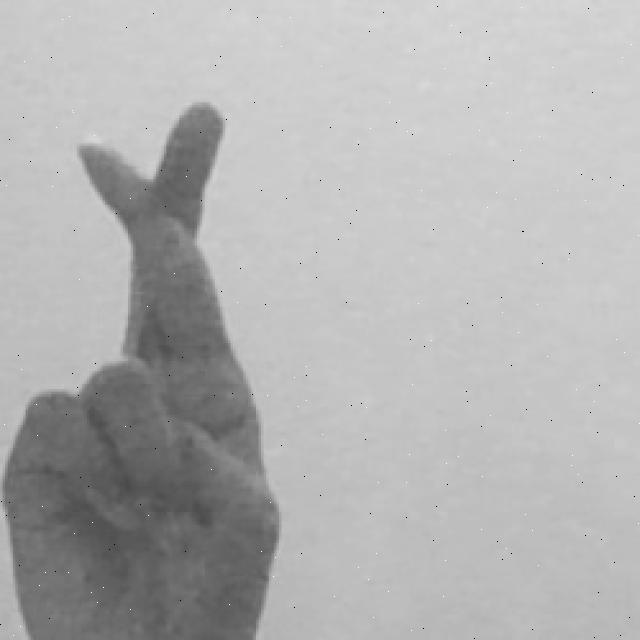R: (0, 89, 286, 640)
